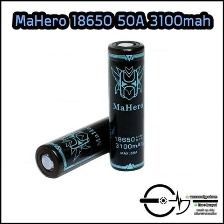battery: (34, 113, 129, 179), (105, 36, 146, 172)
